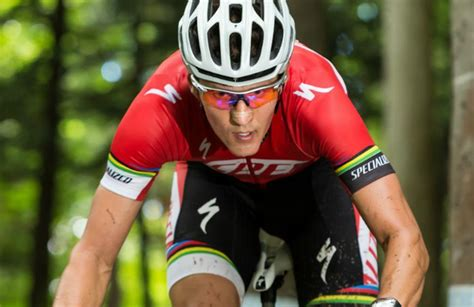com_capacete_bicicleta: (177, 1, 295, 158)
